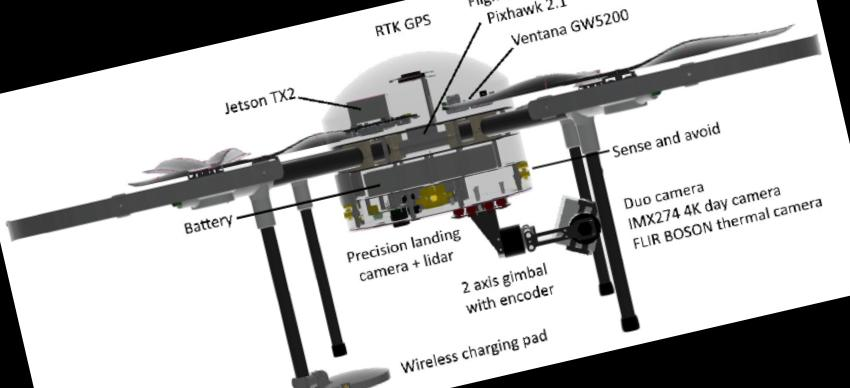drone: (7, 0, 848, 346)
